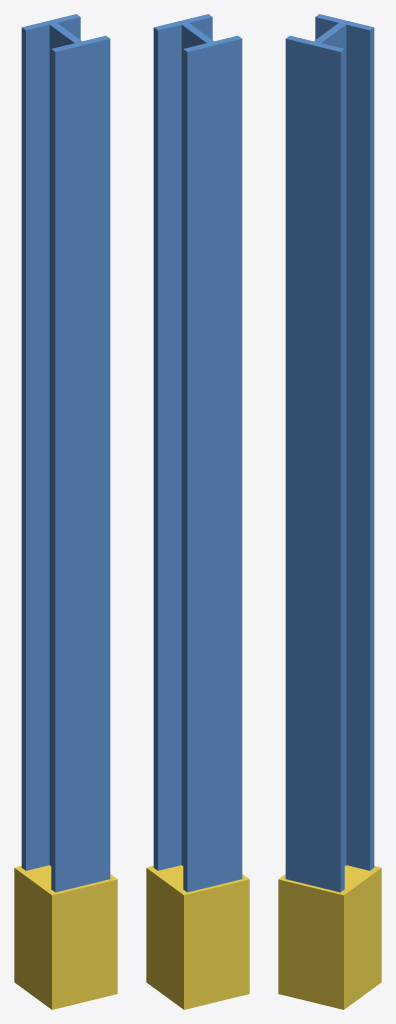
Rendered from Columna.fbx.
3 renders of one model, left to right at view 1: azimuth 30°, elevation 25°; view 2: azimuth 210°, elevation 25°; view 3: azimuth 330°, elevation 25°, orthographic.
Visible parts, largest first — view 1: Cuerpo; view 2: Cuerpo; view 3: Cuerpo.
Boxes of the visible parts, x1=… form: Cuerpo: x1=14, y1=14, x2=117, y2=1009; Cuerpo: x1=146, y1=14, x2=249, y2=1009; Cuerpo: x1=278, y1=14, x2=381, y2=1009.
Bounding box in the file's own units: 0.36 × 5 × 0.36.
